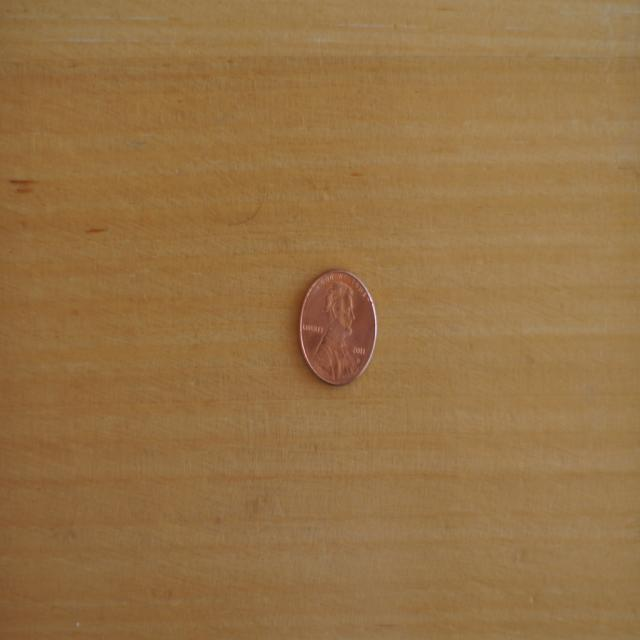Coin: (296, 265, 380, 385)
